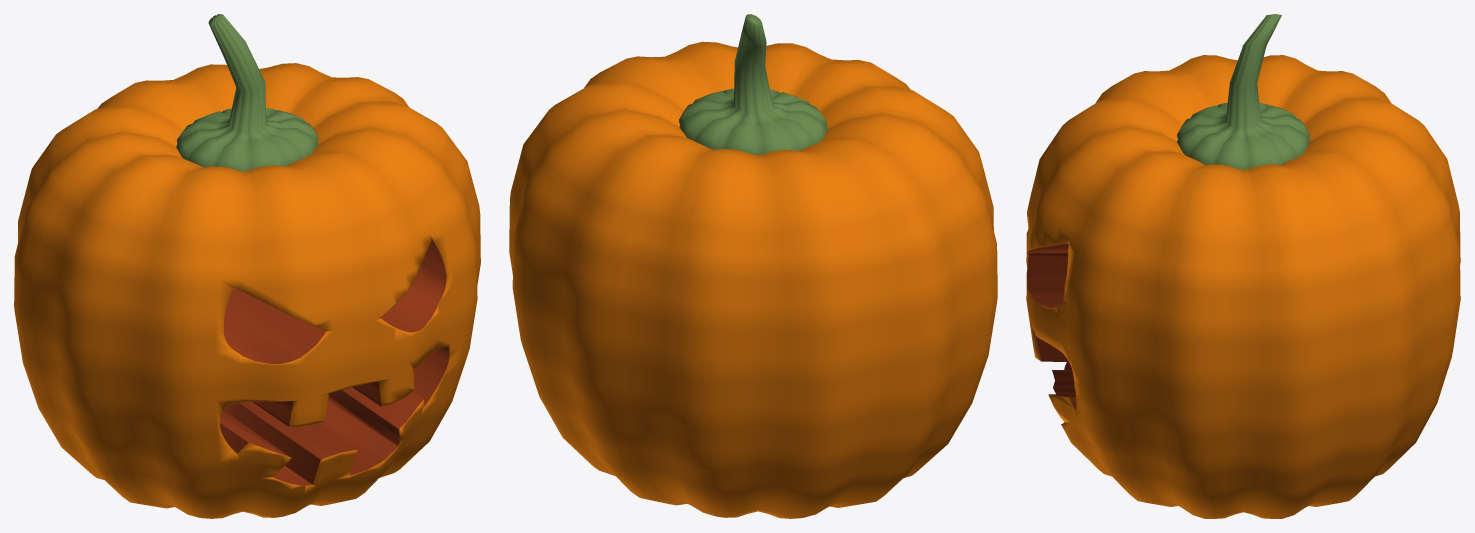
File: Jacko.fbx
3 renders of one model, left to right at view 1: azimuth 30°, elevation 25°; view 2: azimuth 150°, elevation 25°; view 3: azimuth 270°, elevation 25°, orthographic. The views are drawn at different scales.
Parts seen in each view (by area): view 1: Pumpkin, Pumpkin_Sap; view 2: Pumpkin, Pumpkin_Sap; view 3: Pumpkin, Pumpkin_Sap.
Boxes of the visible parts, x1,y1,x2,y2 form: Pumpkin: (14, 63, 480, 518); Pumpkin_Sap: (176, 14, 318, 171); Pumpkin: (509, 41, 997, 518); Pumpkin_Sap: (679, 14, 827, 155); Pumpkin: (1026, 55, 1460, 518); Pumpkin_Sap: (1177, 14, 1309, 170).
Size of the model in its own units: 179 by 189 by 163.
